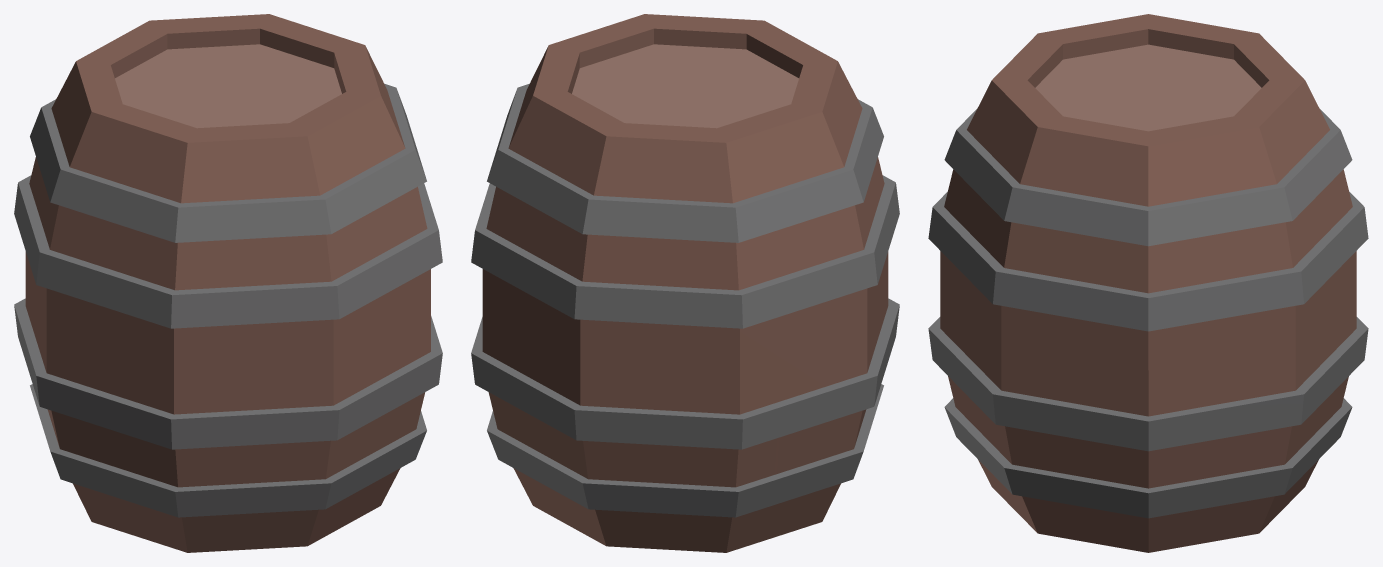
Rendered from barrel.glb.
3 renders of one model, left to right at view 1: azimuth 30°, elevation 25°; view 2: azimuth 150°, elevation 25°; view 3: azimuth 270°, elevation 25°, orthographic.
Parts seen in each view (by area): view 1: barrel_001.008; view 2: barrel_001.008; view 3: barrel_001.008.
Part boxes in pixels (bbox=[...]): barrel_001.008: bbox=[14, 14, 442, 552]; barrel_001.008: bbox=[471, 14, 899, 552]; barrel_001.008: bbox=[928, 14, 1368, 552].
Size of the model in its own units: 0.7118 by 0.7257 by 0.7118.
Materials: 1 (1 with a texture image).
